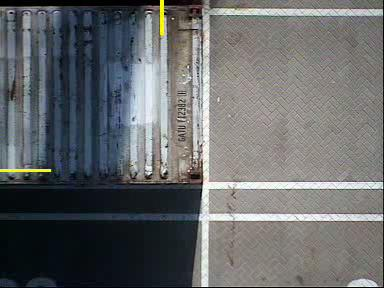groundmarker_2: (134, 20, 262, 108)
